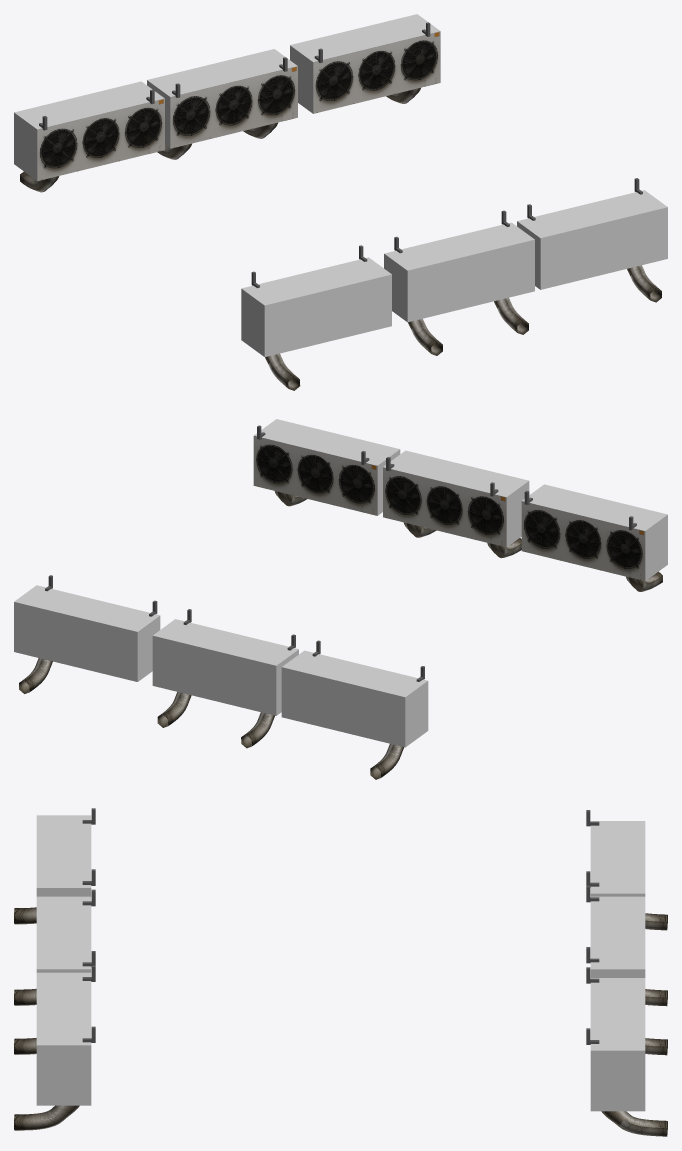
File: air_conditioner.dae
3 views of the same model, one above another, from view 1: azimuth 30°, elevation 25°; view 2: azimuth 150°, elevation 25°; view 3: azimuth 270°, elevation 25° (orthographic). The views are drawn at different scales.
Parts seen in each view (by area): view 1: Cube.001, Cube; view 2: Cube, Cube.001; view 3: Cube.001, Cube.
Boxes of the visible parts, box(x1,y1,x2,y2) form: Cube.001: box(241, 178, 667, 390); Cube: box(14, 14, 440, 192); Cube: box(14, 575, 428, 779); Cube.001: box(253, 419, 667, 591); Cube.001: box(14, 808, 95, 1130); Cube: box(586, 810, 667, 1136).
Size of the model in its own units: 4.1 by 4.81 by 0.903.
Materials: 3 (1 with a texture image).
